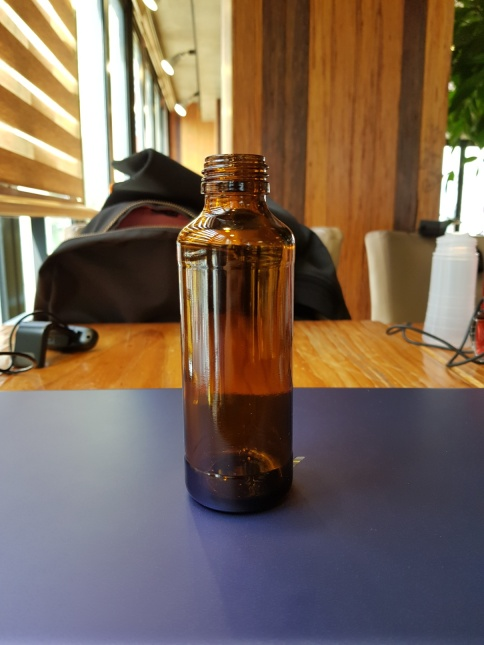Glass: (174, 152, 302, 514)
